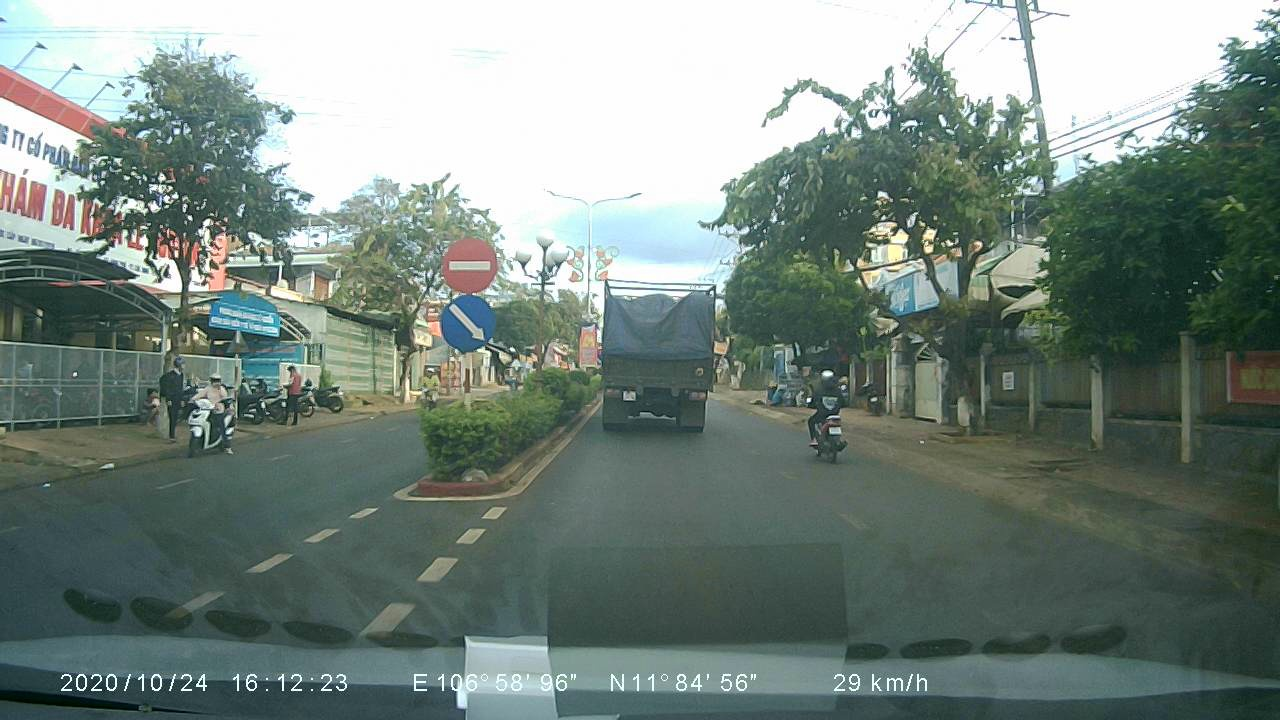Cam di nguoc chieu: (441, 233, 504, 294)
Huong di phai re phai: (439, 293, 498, 352)
